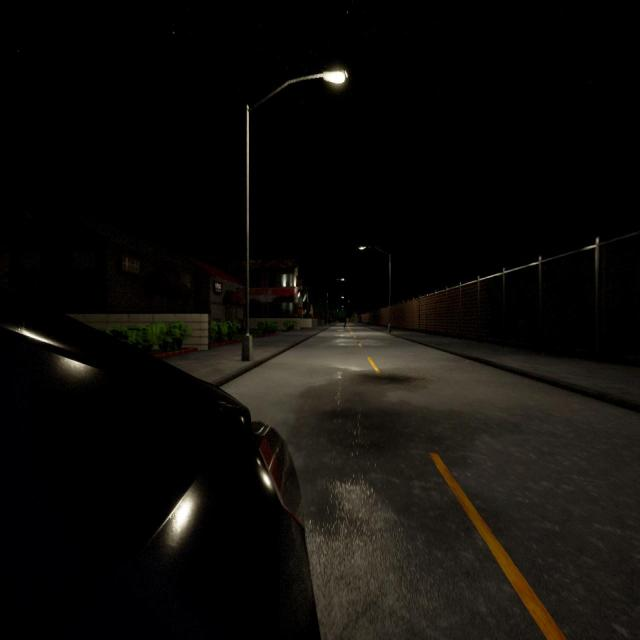Pedestrian: (343, 315, 347, 329)
Vehicle: (0, 286, 319, 637)
traffic_light: (355, 312, 357, 318)
